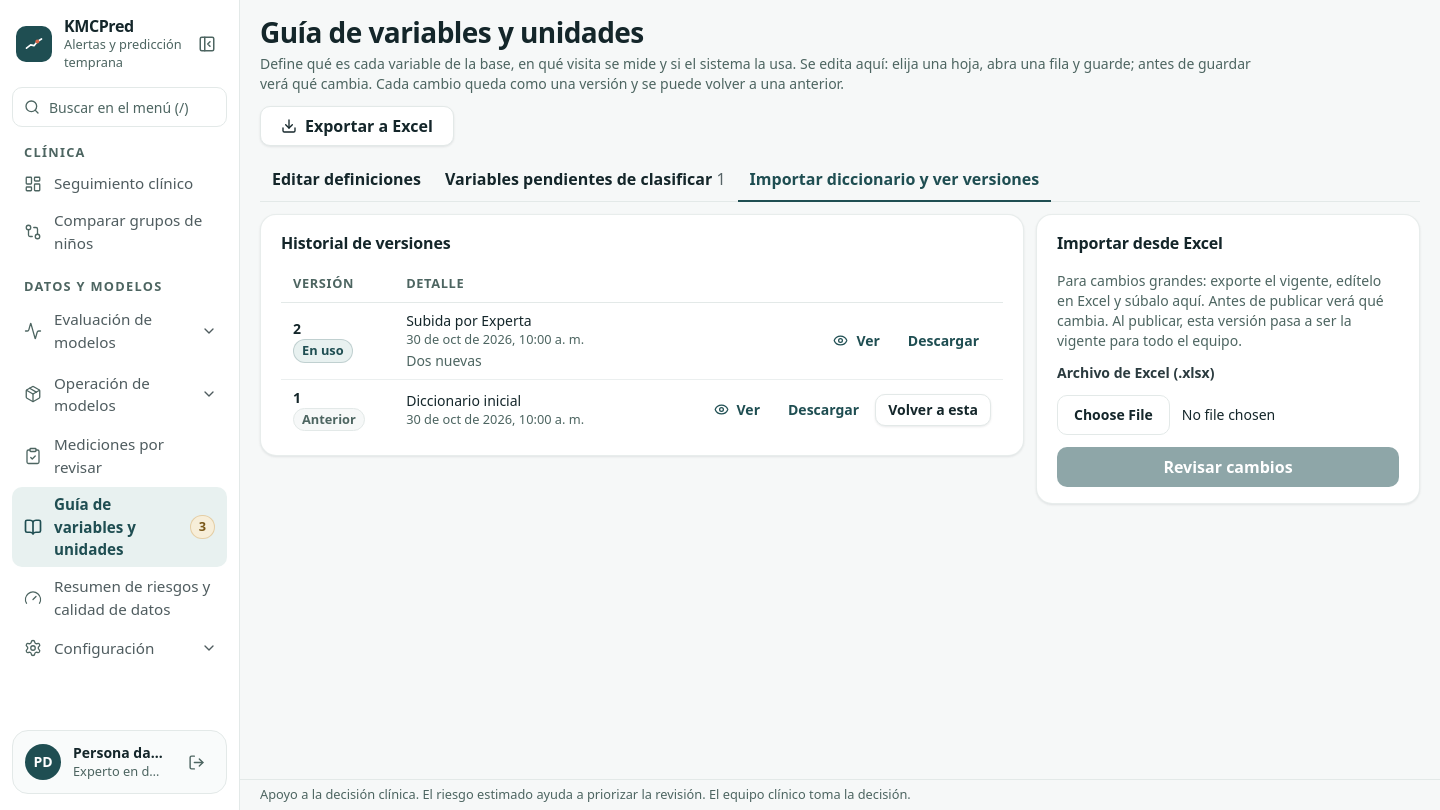
Scenario: diccionario de variables › el historial previsualiza una versión por hojas, con búsqueda, sin descargarla
Click the button with aria-label "Ver la versión 1". click: (737, 410)
box: [702,394,772,426]
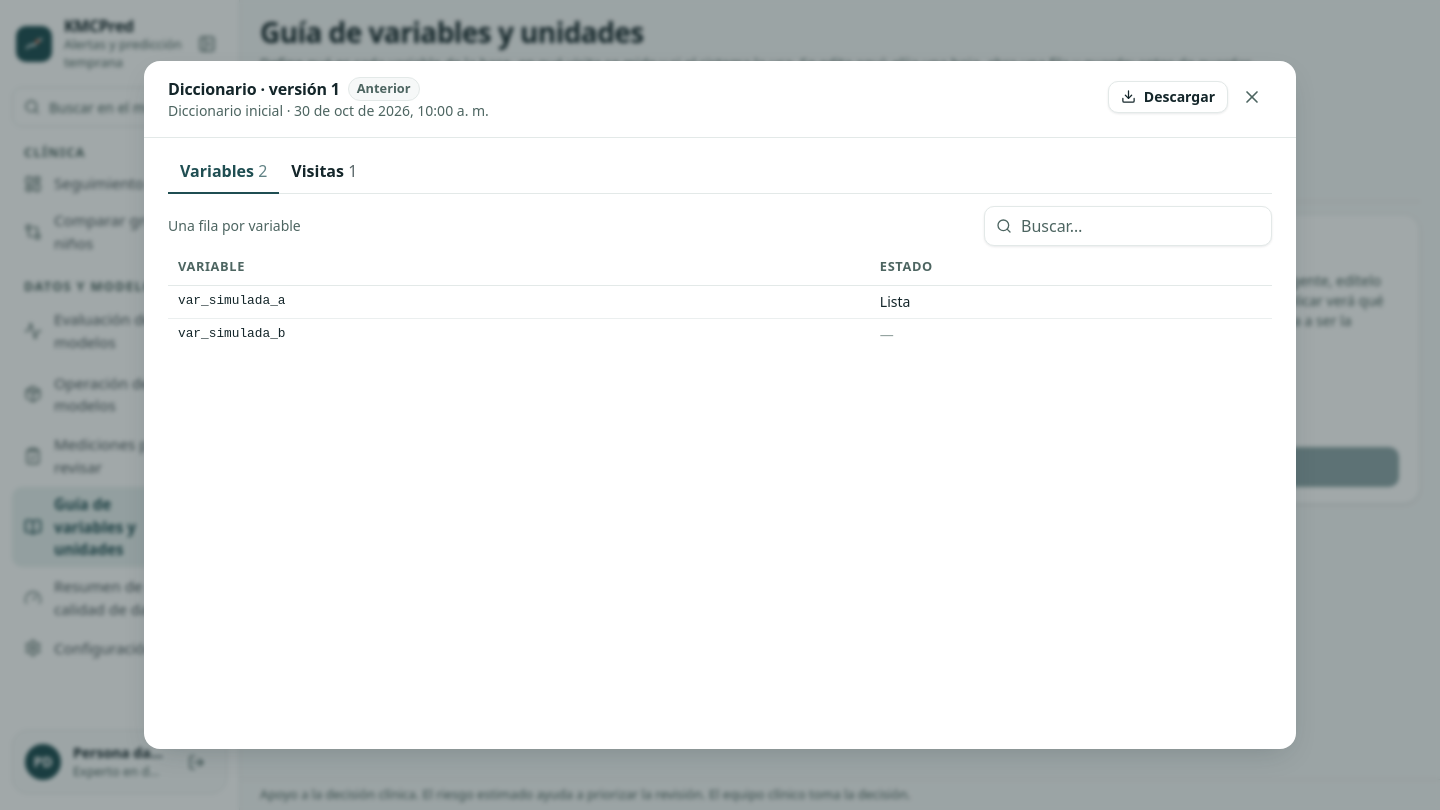
Check: the text "var_simulada_a" is shown, box [168,286,870,318]
Check: the column heading "Estado" is shown, box [870,254,1272,286]
Type "simulada_b" into the field with placeholder "Buscar…". click: (1128, 226)
box: [984,206,1272,246]
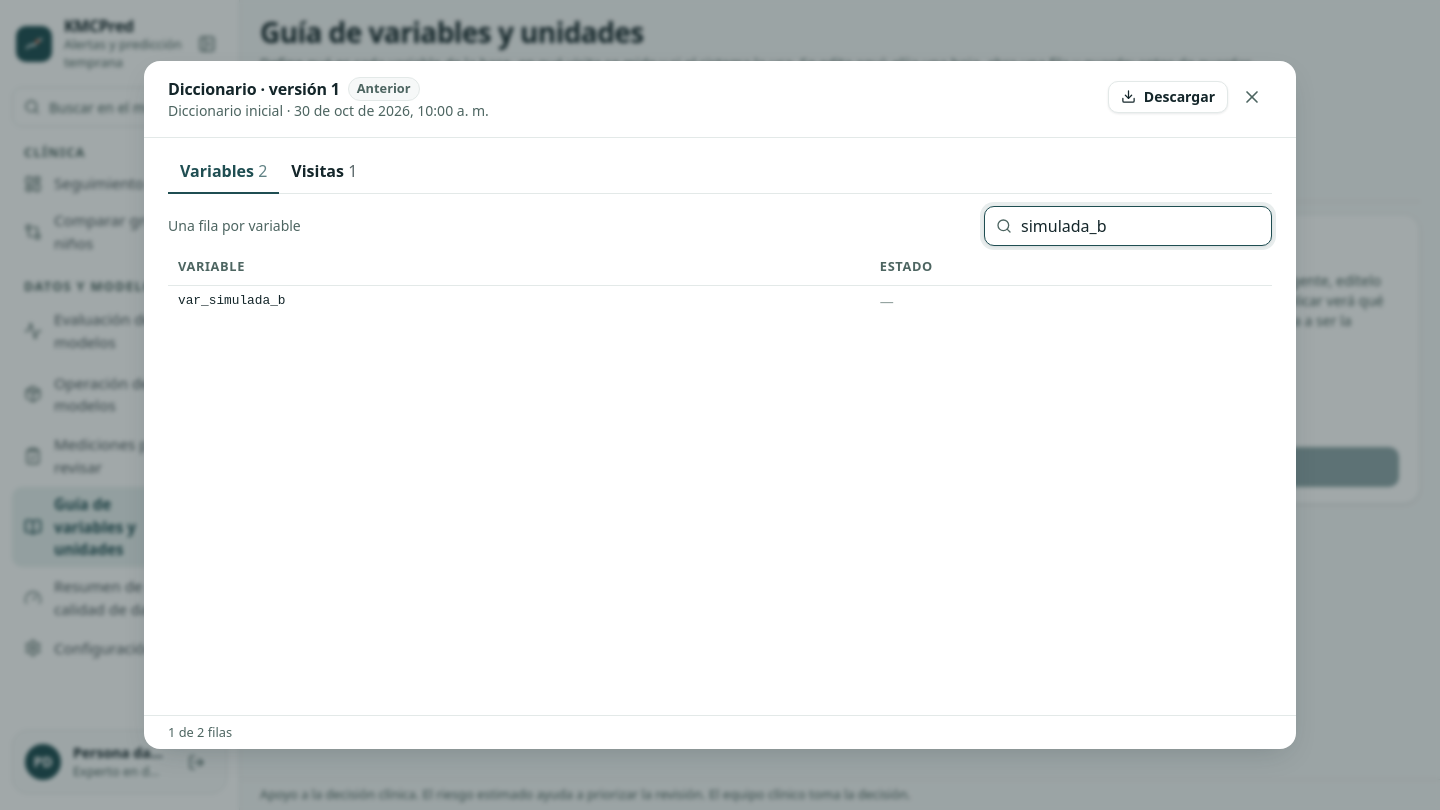
Check: the text "var_simulada_a" is gone
Check: the text "1 de 2 filas" is shown, box [144,715,1296,749]
Click the tab "Visitas 1". click: (324, 172)
box: [279,150,369,194]
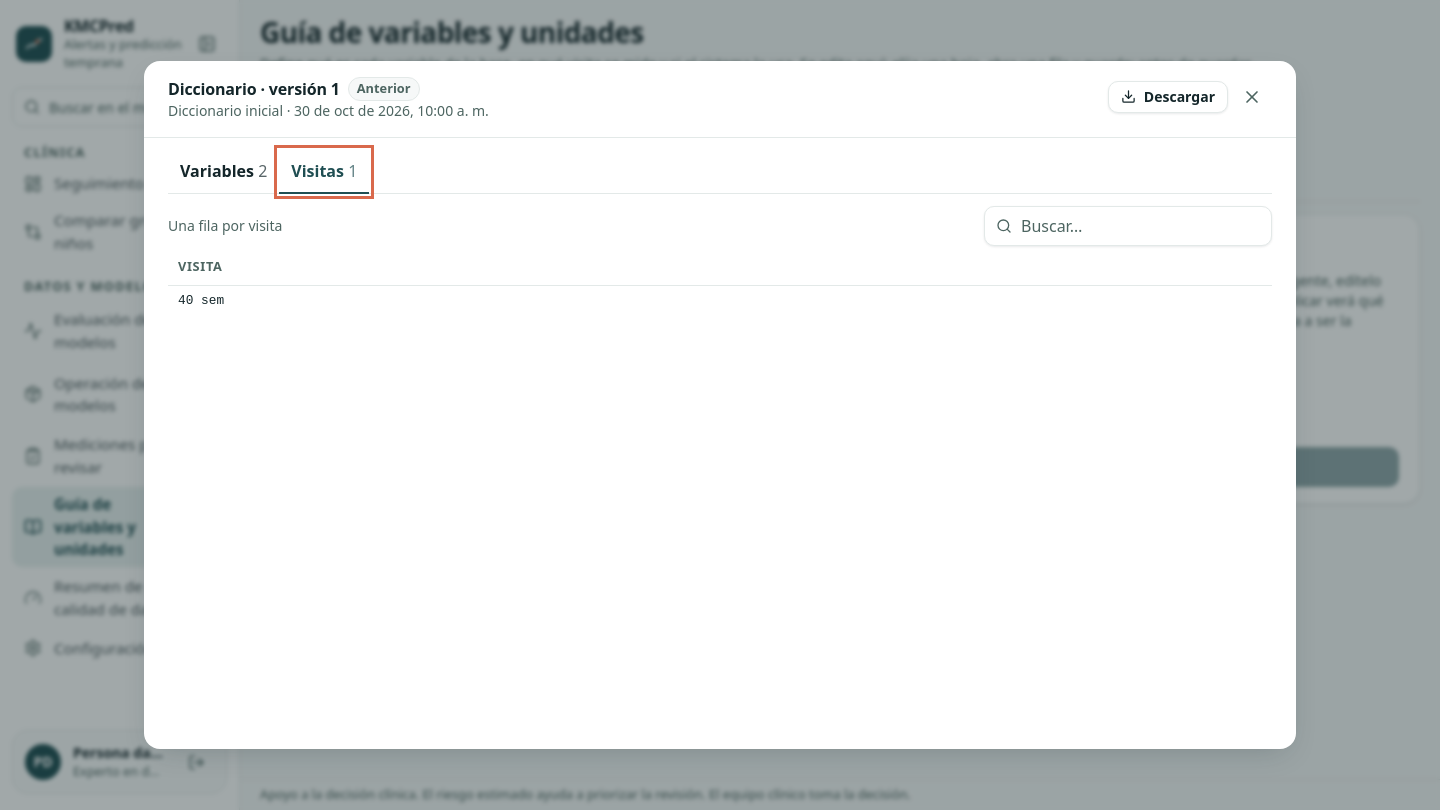
Check: the text "40 sem" is shown, box [168,286,1272,316]
Press Escape
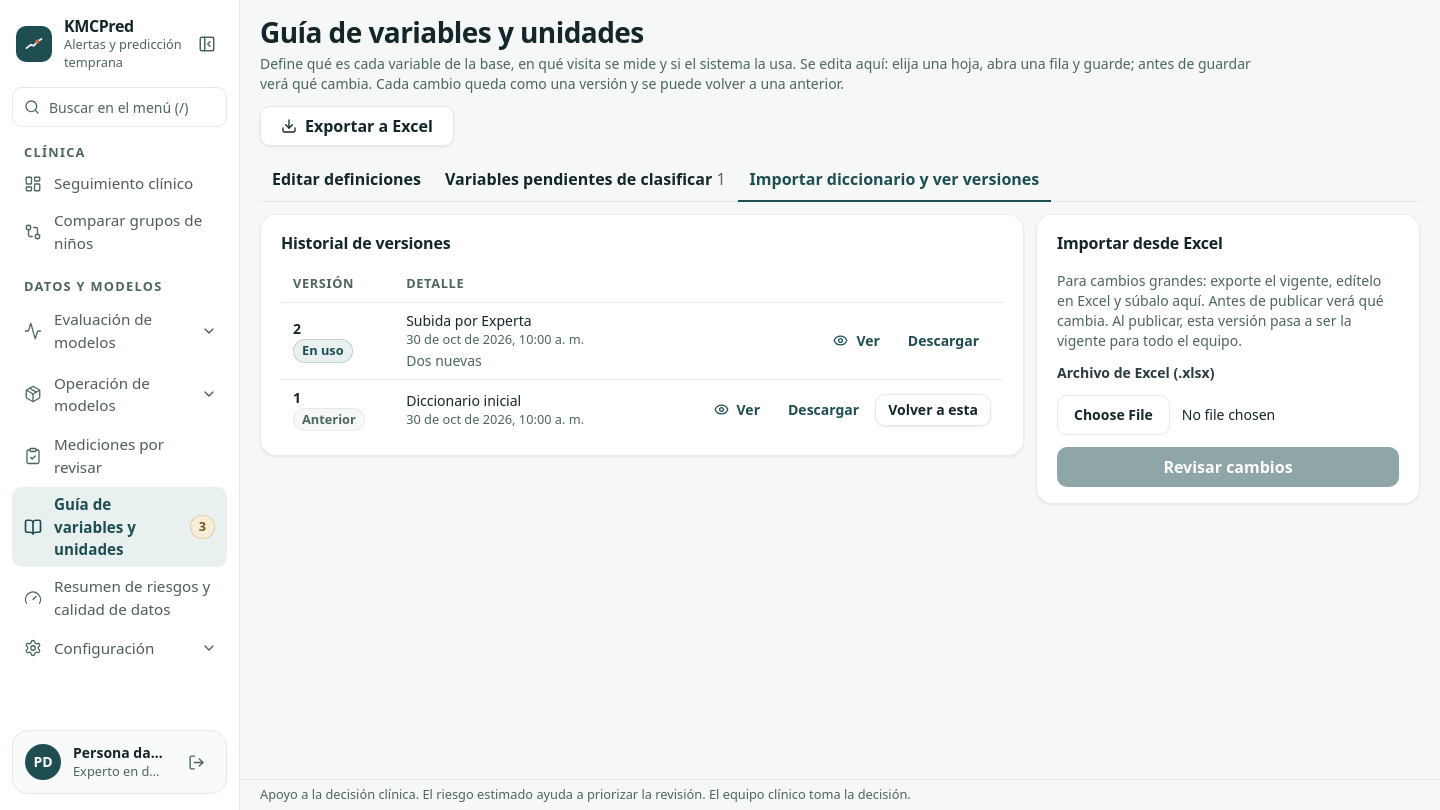
Check: the heading "versión 1" is gone
